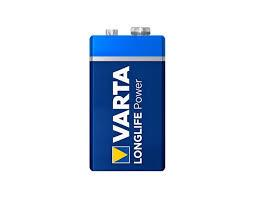9V: (88, 26, 165, 171)
